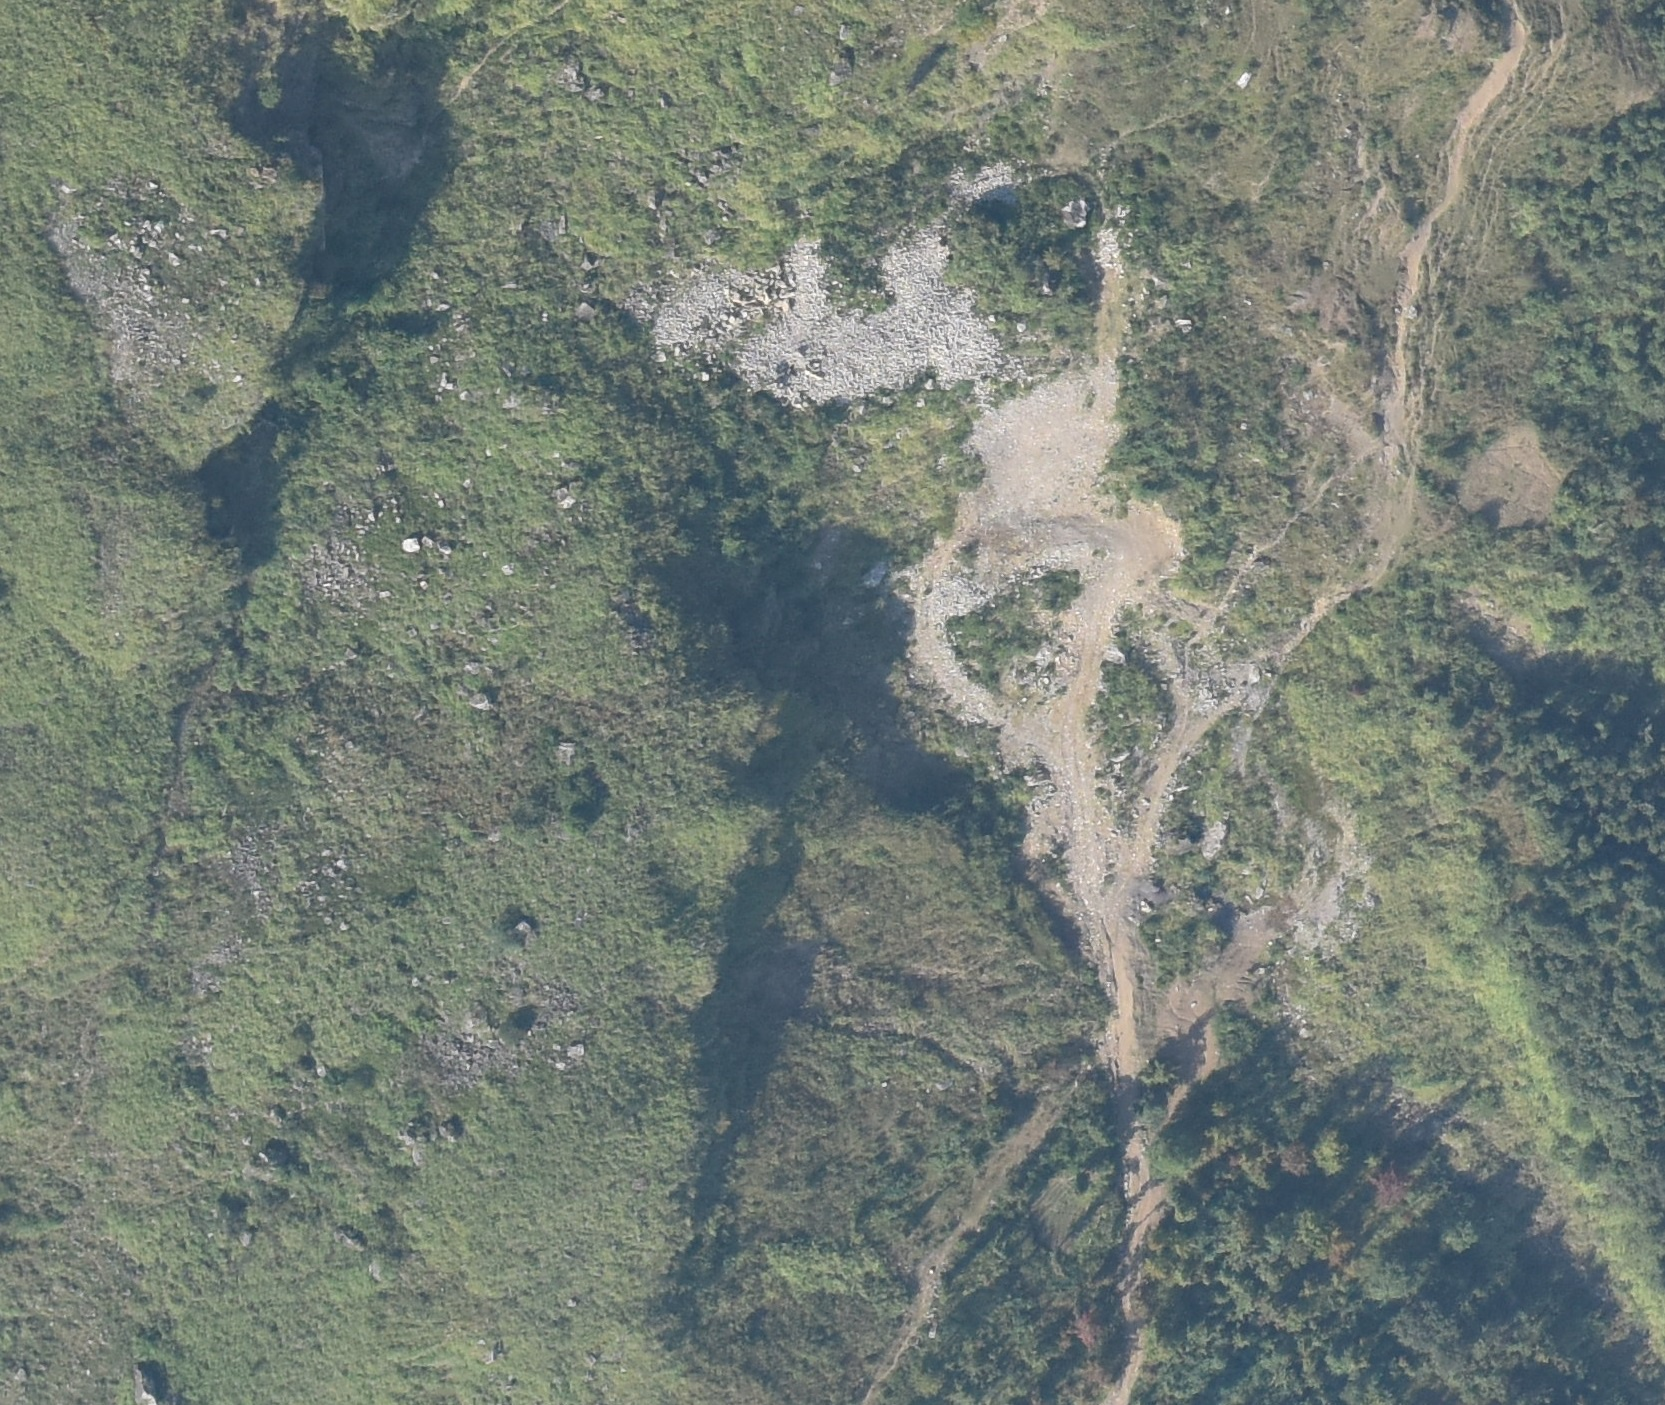quarry: (896, 371, 1280, 903), (627, 157, 1012, 390)
